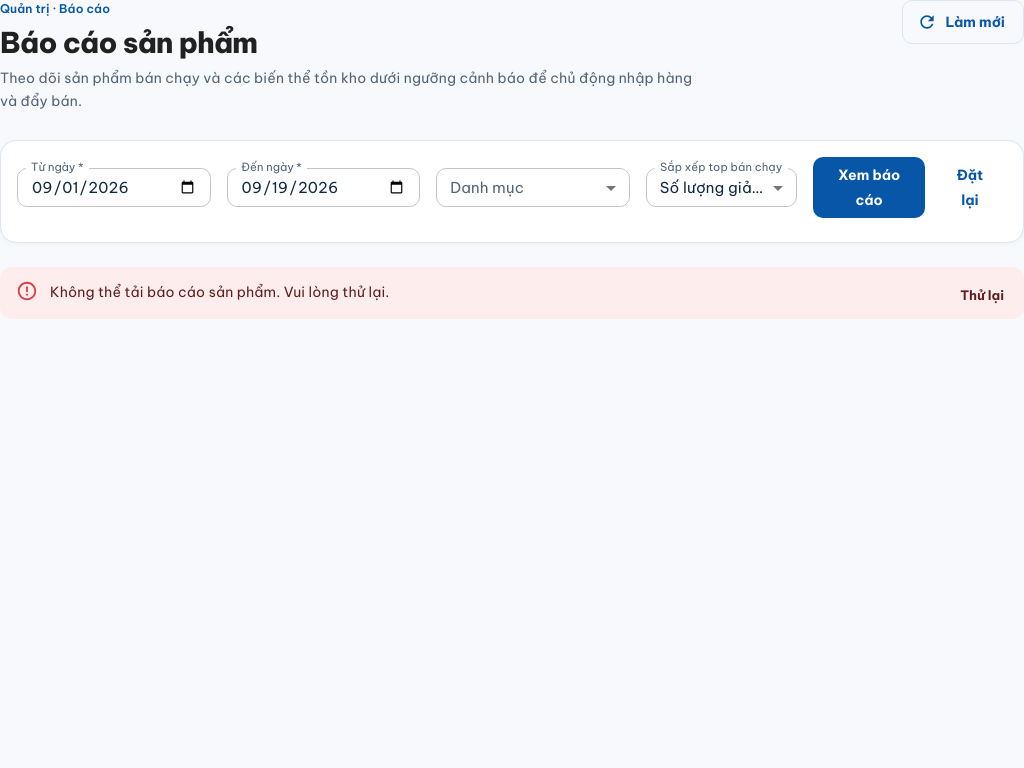
it: US-13.3: AdminProductInventoryReportPage › validates the date range and allows retry after an API error
The image size is (1024, 768).
Check: the text "Không thể tải báo cáo sản phẩm. Vui lòng thử lại." is shown, box [50,283,390,301]
Type "2026-09-10" into the date field labelled "Từ ngày *" at x=114, y=188, box [17,168,211,207]
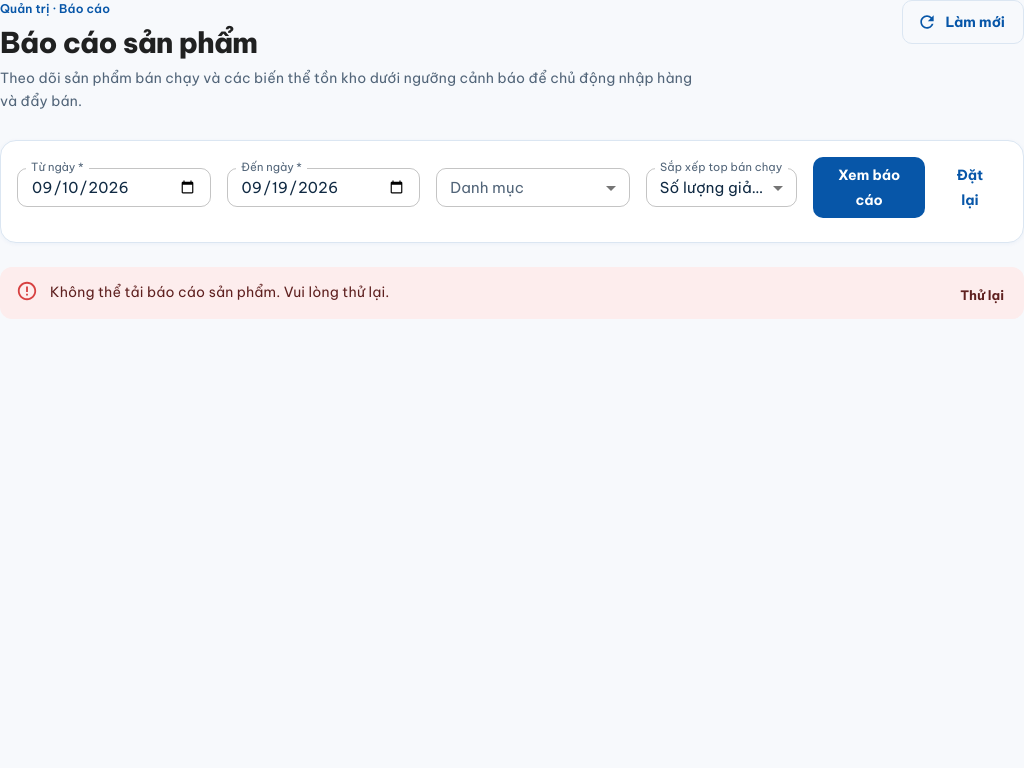
Type "2026-09-01" into the date field labelled "Đến ngày *" at x=323, y=188, box [227,168,420,207]
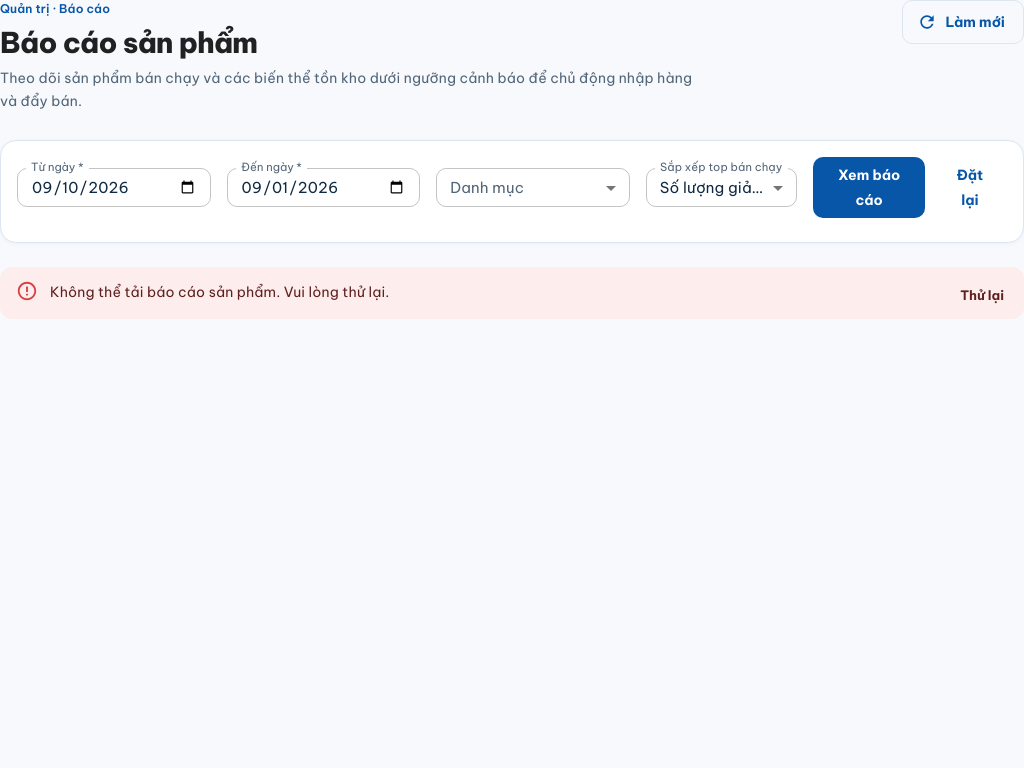
Click the button "Xem báo cáo" at x=869, y=188, box [813,157,925,218]
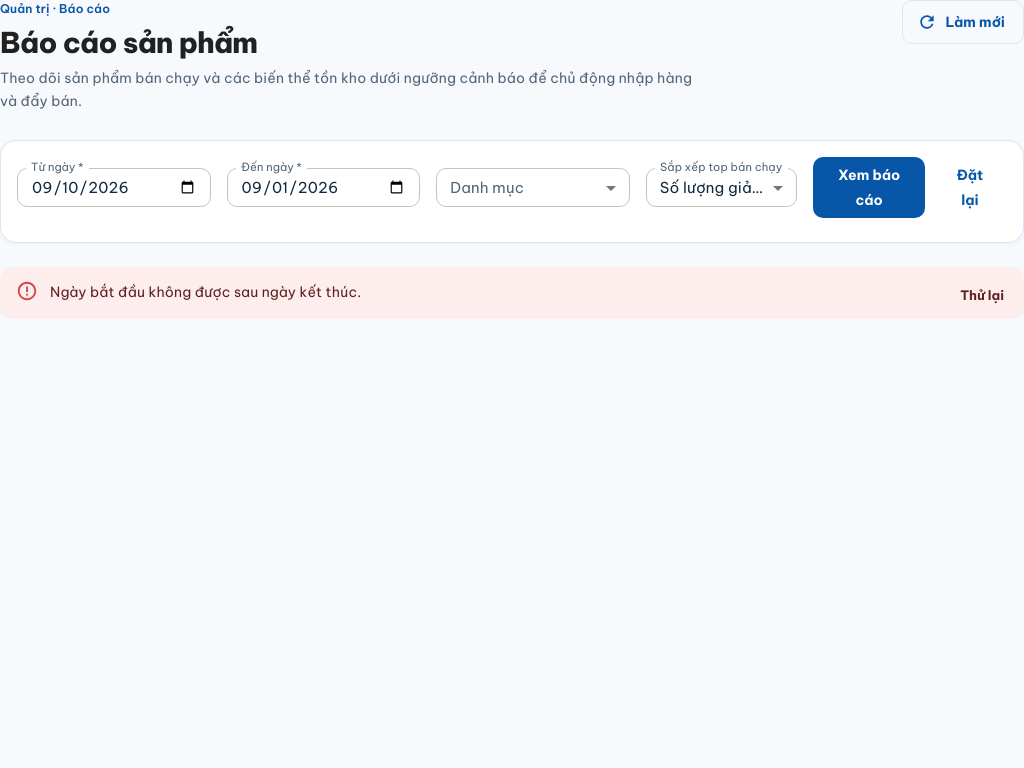
Check: the text "Ngày bắt đầu không được sau ngày kết thúc." is shown, box [50,283,361,301]
Click the button "Thử lại" at x=982, y=295, box [948,277,1016,313]
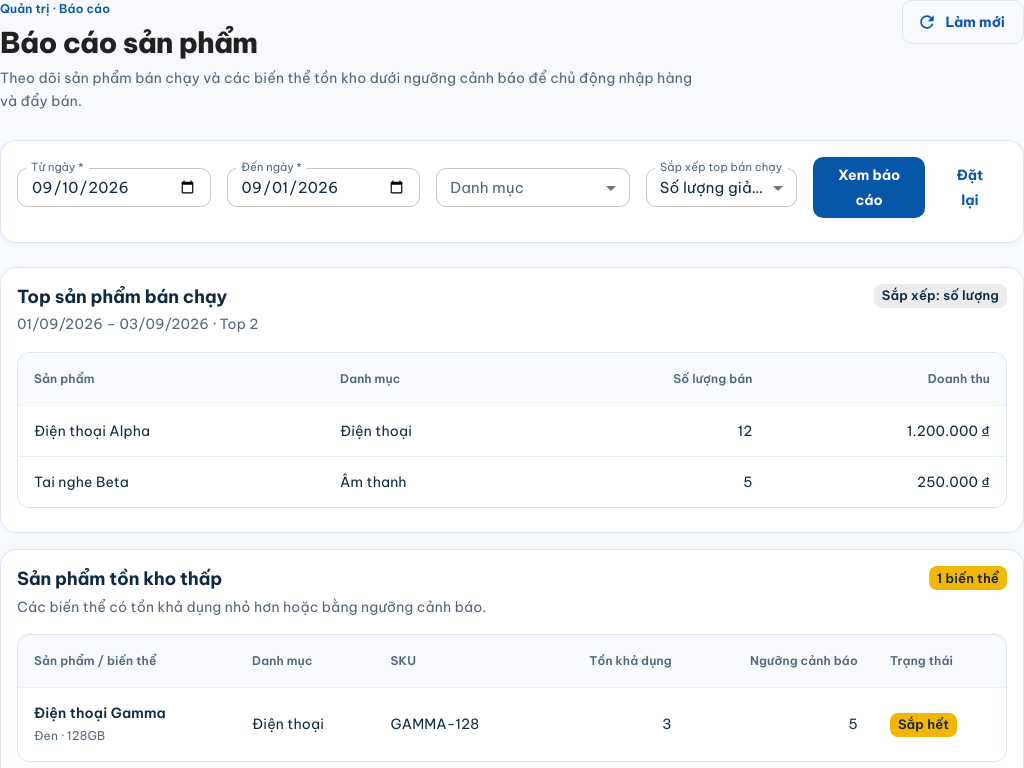
Check: the text "GAMMA-128" is shown, box [375,688,535,761]
